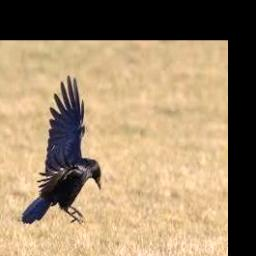Crow: (20, 75, 101, 226)
